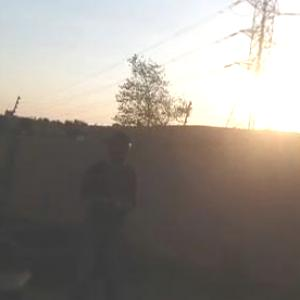follow: (70, 125, 144, 299)
